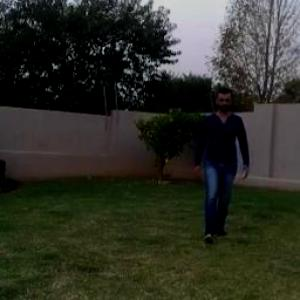follow: (194, 91, 241, 238)
